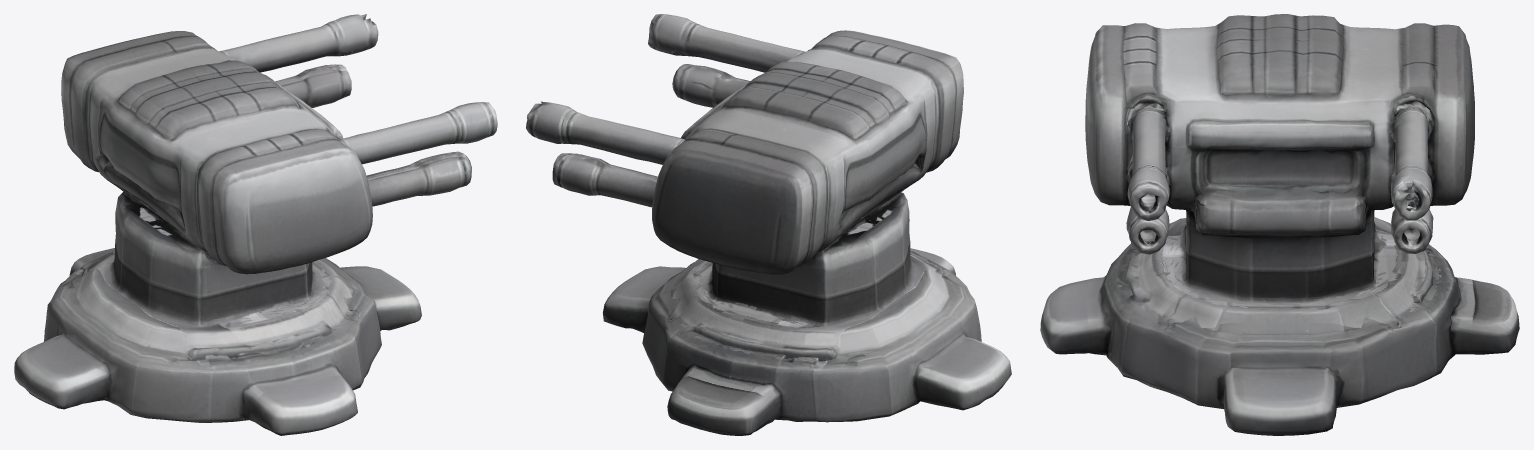
File: BasicTurretUpgrade.glb
The picture shows the model from 3 angles, left to right: view 1: azimuth 30°, elevation 25°; view 2: azimuth 150°, elevation 25°; view 3: azimuth 270°, elevation 25°; orthographic projection. The views are drawn at different scales.
Parts seen in each view (by area): view 1: texture_mapping; view 2: texture_mapping; view 3: texture_mapping.
Boxes of the visible parts, x1,y1,x2,y2 form: texture_mapping: (14, 14, 497, 435); texture_mapping: (526, 14, 1011, 435); texture_mapping: (1040, 14, 1519, 435).
Size of the model in its own units: 0.9999 by 0.6422 by 0.9406.
1 material, 1 textured.
